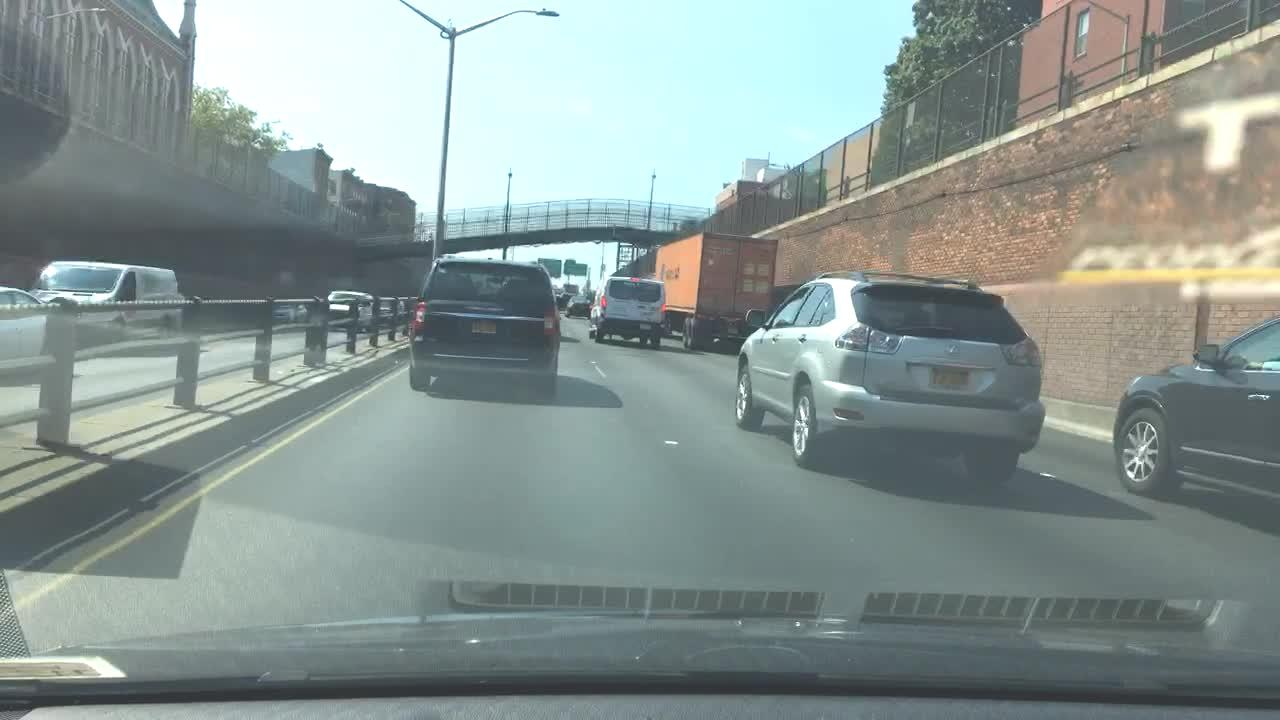lexus: (939, 339, 965, 362)
